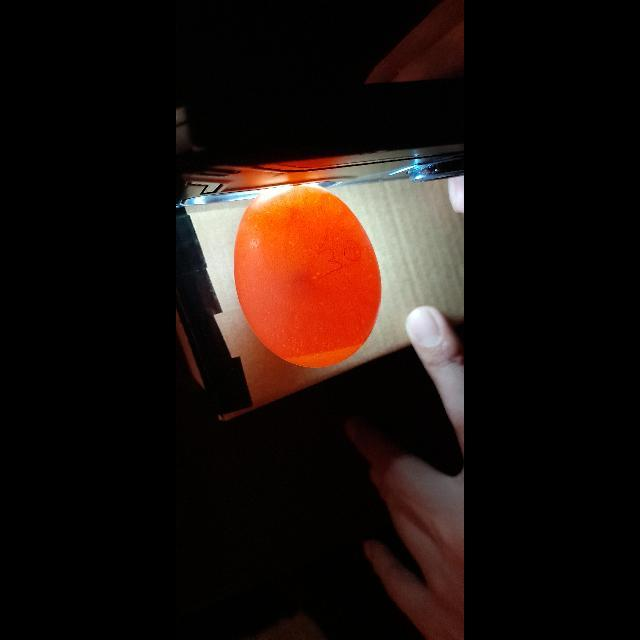Fertile: (232, 186, 386, 370)
